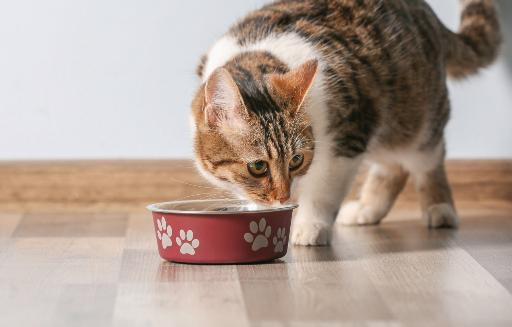cat_eating: (147, 0, 501, 264)
